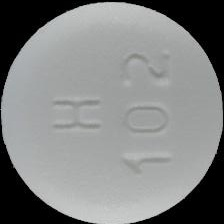61919-313: (0, 0, 224, 224)
